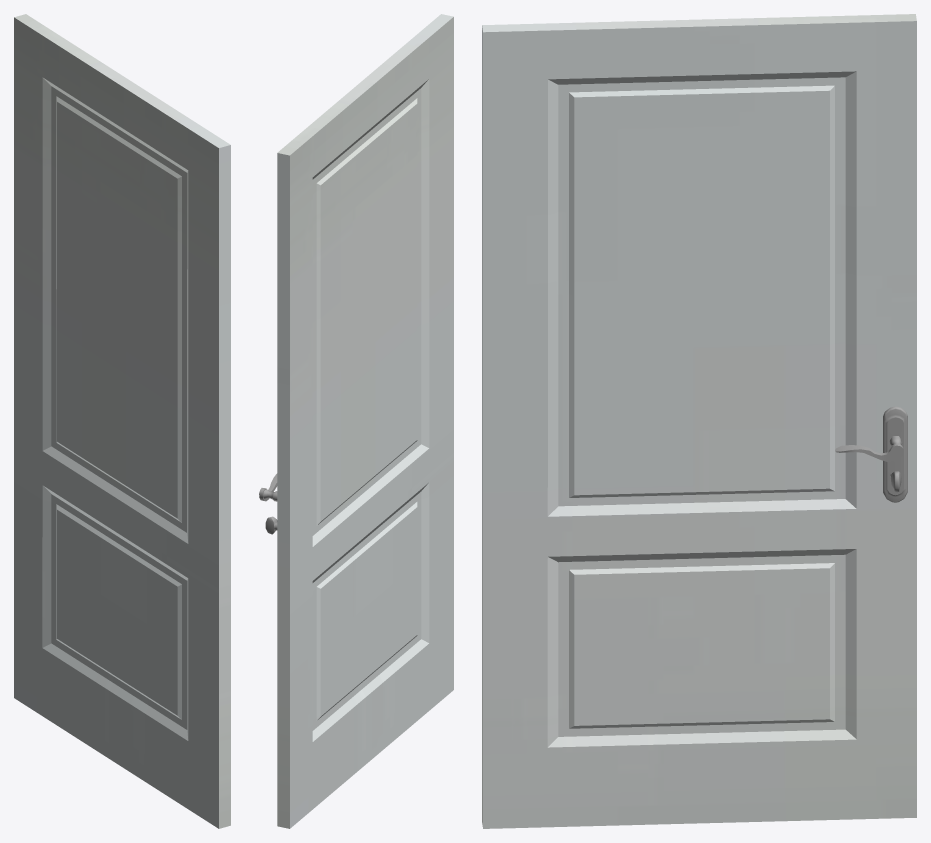
File: men08.fbx
The picture shows the model from 3 angles, left to right: view 1: azimuth 30°, elevation 25°; view 2: azimuth 150°, elevation 25°; view 3: azimuth 270°, elevation 25°; orthographic projection. The views are drawn at different scales.
Visible parts, largest first — view 1: men08; view 2: men08; view 3: men08.
Part boxes in pixels (x1,y1,x2,y2): men08: [14, 14, 230, 828]; men08: [259, 14, 453, 828]; men08: [482, 14, 916, 828].
Bounding box in the file's own units: 13.62 × 210 × 104.
